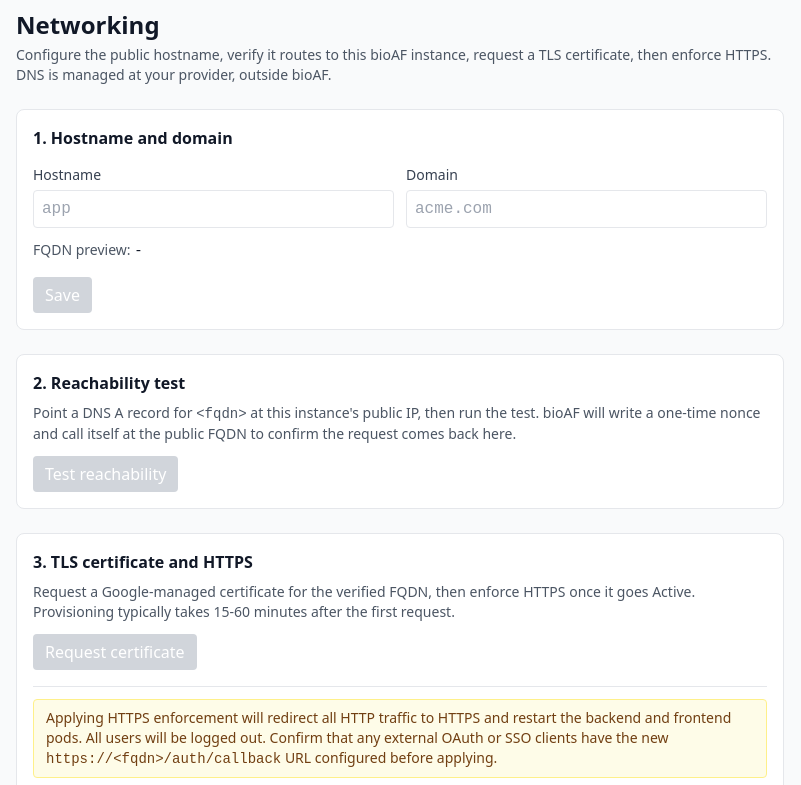
Test case: Networking Settings Page › previews the FQDN as the operator types
This screenshot has width=801, height=785.
Type "lab" into the field with test id "hostname-input" at (214, 209), box x1=33 y1=190 x2=394 y2=228
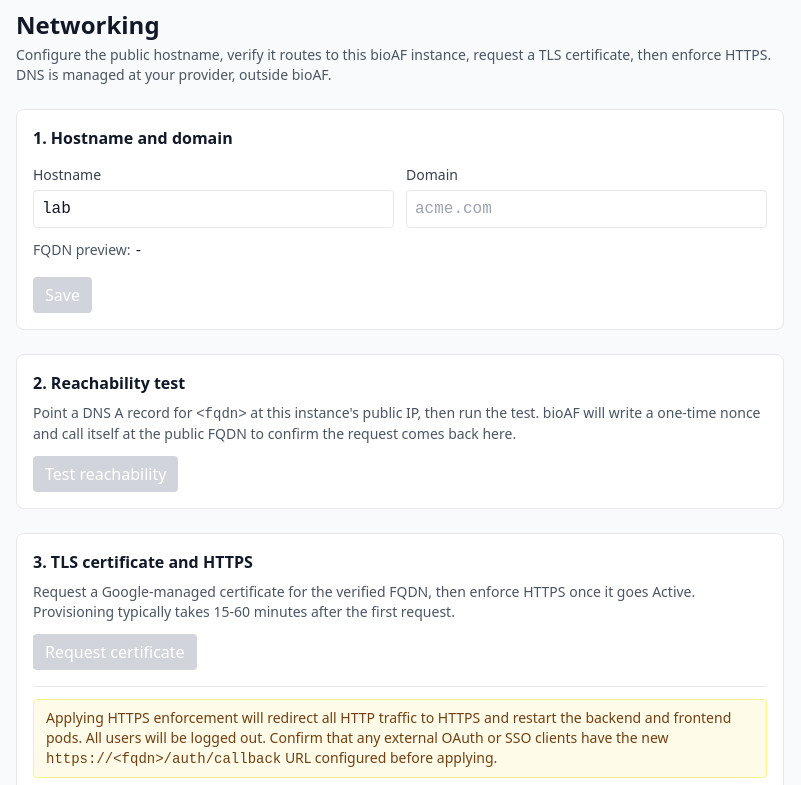
Type "example.org" into the field with test id "domain-input" at (586, 209), box x1=406 y1=190 x2=767 y2=228
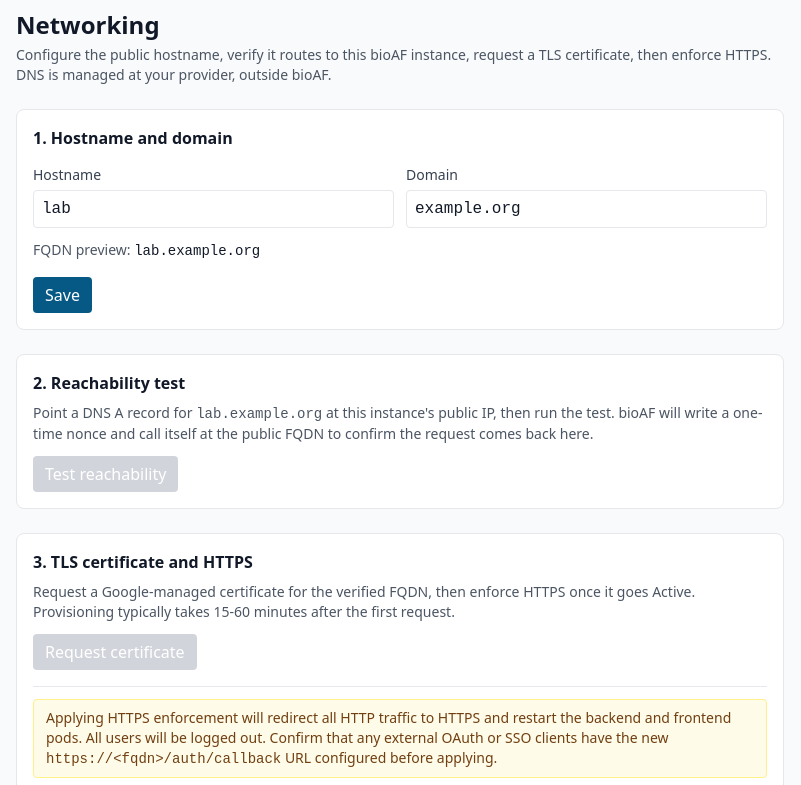
Check: the text with test id "fqdn-preview" reads "lab.example.org", box x1=134 y1=243 x2=260 y2=259
